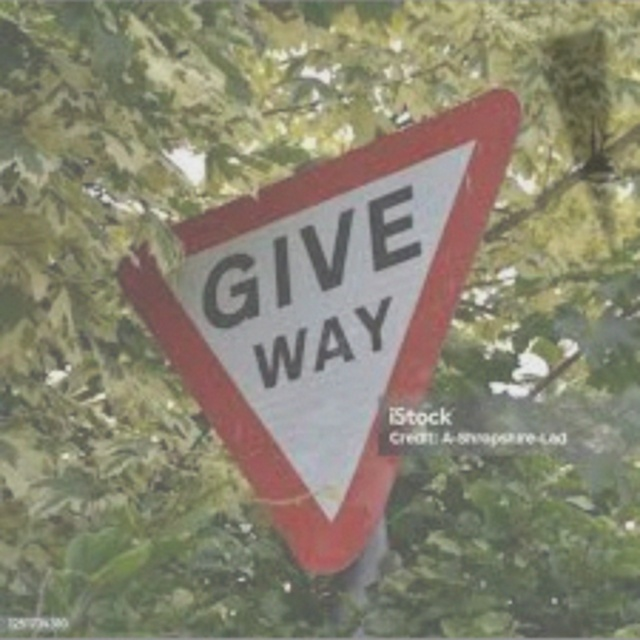Give_Way: (122, 102, 507, 554)
